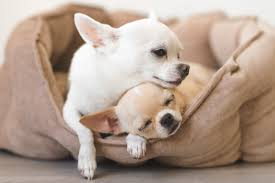Chihuahua: (82, 88, 246, 161), (52, 6, 201, 86)
